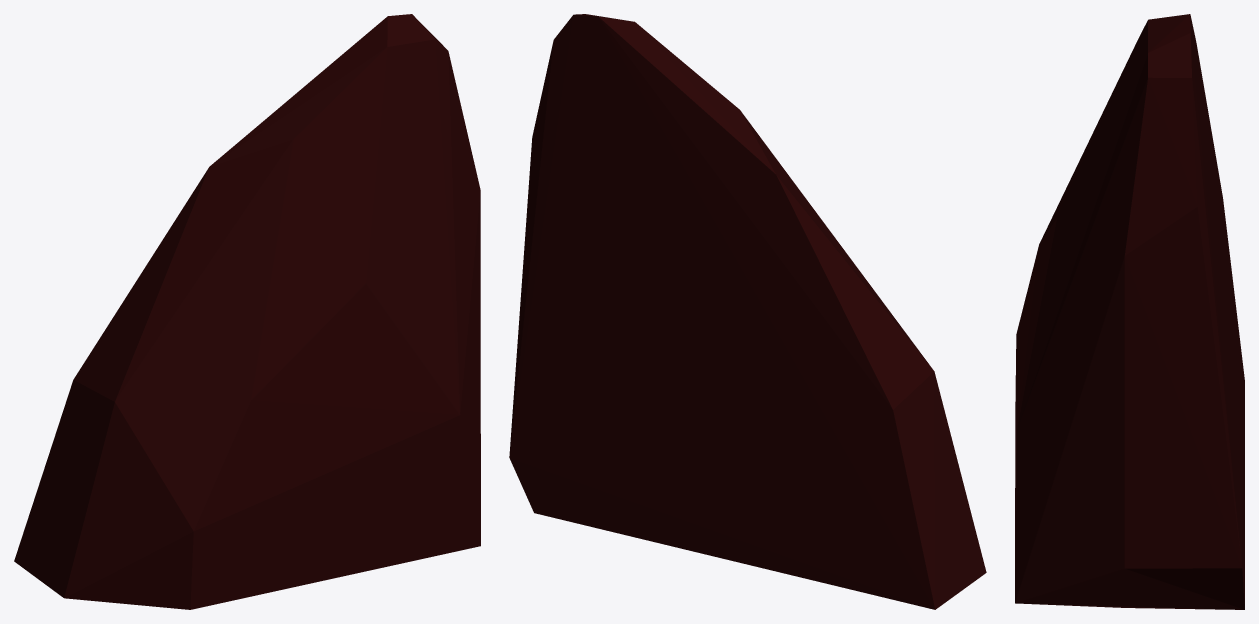
Rendered from UCX_Castle_Wall_C_ALT.fbx.
3 renders of one model, left to right at view 1: azimuth 30°, elevation 25°; view 2: azimuth 150°, elevation 25°; view 3: azimuth 270°, elevation 25°, orthographic. The views are drawn at different scales.
Visible parts, largest first — view 1: UCX_Castle_Wall_C_ALT; view 2: UCX_Castle_Wall_C_ALT; view 3: UCX_Castle_Wall_C_ALT.
Part boxes in pixels (x1=…): UCX_Castle_Wall_C_ALT: x1=14, y1=14, x2=480, y2=609; UCX_Castle_Wall_C_ALT: x1=509, y1=14, x2=986, y2=609; UCX_Castle_Wall_C_ALT: x1=1015, y1=14, x2=1244, y2=609.
Bounding box in the file's own units: 858 × 951 × 341.
